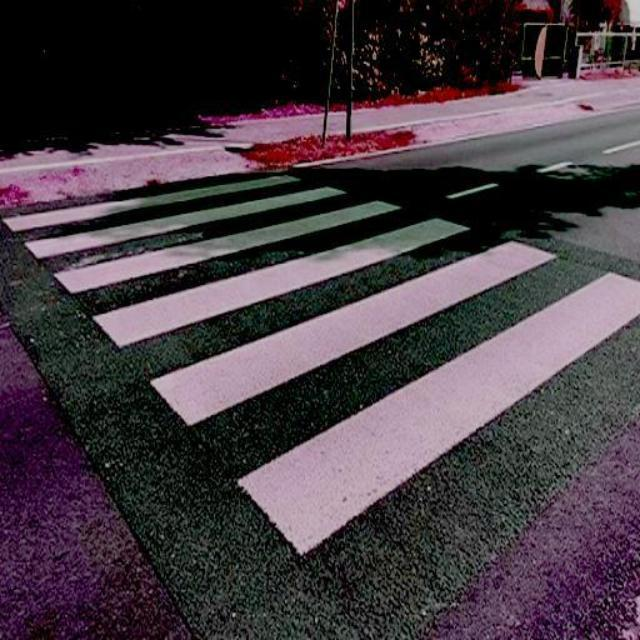sidewalk: (1, 171, 640, 640)
